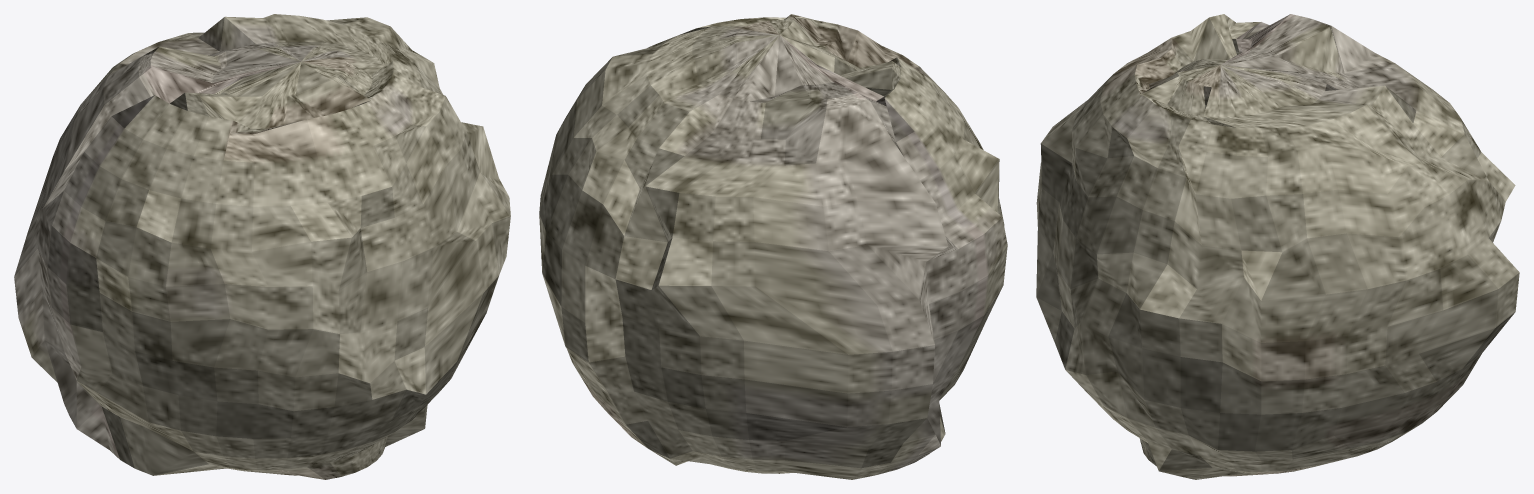
File: asteroid.glb
3 renders of one model, left to right at view 1: azimuth 30°, elevation 25°; view 2: azimuth 150°, elevation 25°; view 3: azimuth 270°, elevation 25°, orthographic.
Visible parts, largest first — view 1: Sphere; view 2: Sphere; view 3: Sphere.
Boxes of the visible parts, <box> form: Sphere: <box>14,14,510,479</box>; Sphere: <box>539,14,1007,479</box>; Sphere: <box>1036,14,1519,479</box>.
Bounding box in the file's own units: 2.1 × 1.92 × 2.12.
Materials: 1 (1 with a texture image).
